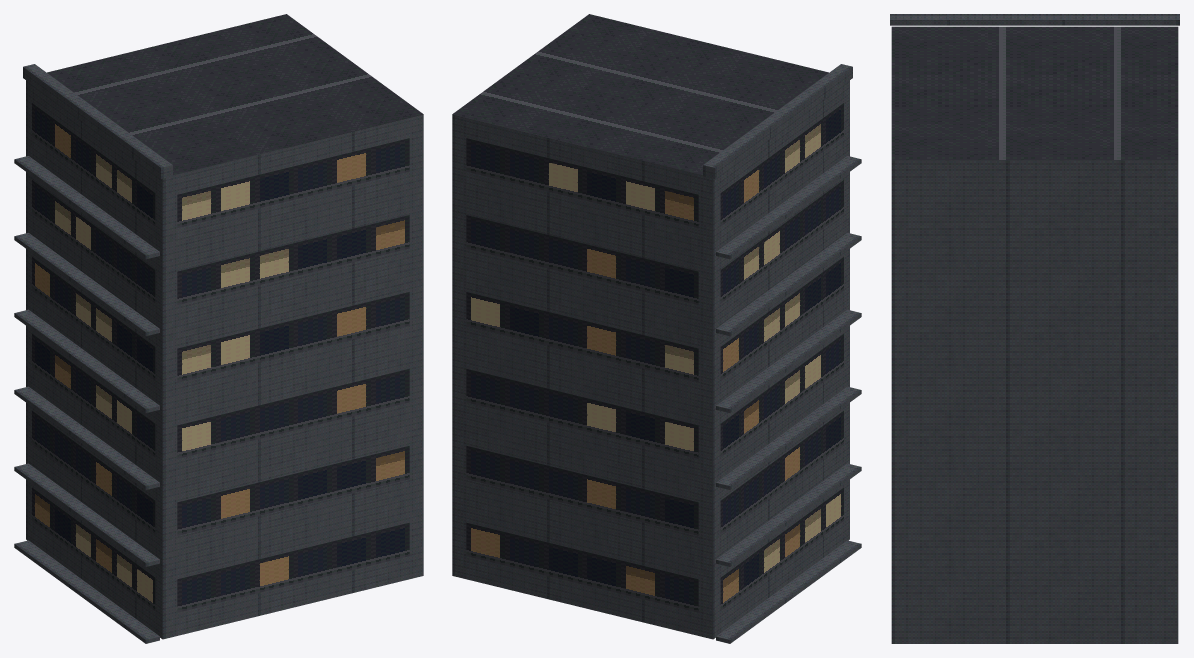
Rendered from mtn_block_dn_d.glb.
3 views of the same model, side by side, from view 1: azimuth 30°, elevation 25°; view 2: azimuth 150°, elevation 25°; view 3: azimuth 270°, elevation 25° (orthographic). The views are drawn at different scales.
Visible parts, largest first — view 1: mtn_block_dn_d; view 2: mtn_block_dn_d; view 3: mtn_block_dn_d.
Part boxes in pixels (bbox=[...]): mtn_block_dn_d: bbox=[14, 14, 423, 643]; mtn_block_dn_d: bbox=[452, 14, 861, 643]; mtn_block_dn_d: bbox=[890, 14, 1179, 643].
Bounding box in the file's own units: 11.6 × 19.17 × 10.1.
3 materials, 3 textured.
